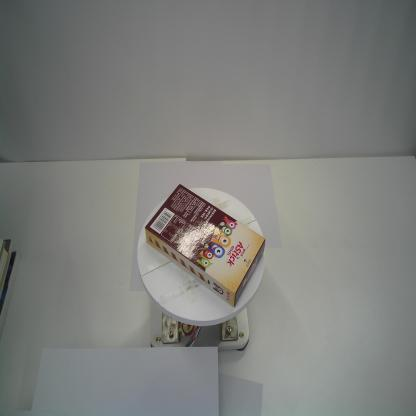Dessert: (141, 183, 266, 310)
